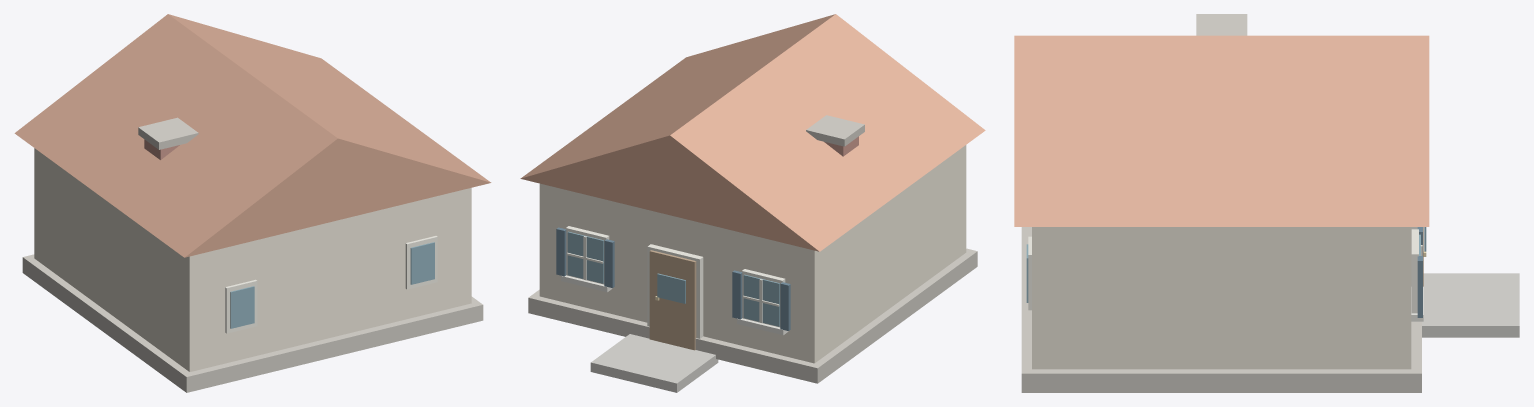
Rendered from House_Cottage.glb.
3 views of the same model, side by side, from view 1: azimuth 30°, elevation 25°; view 2: azimuth 150°, elevation 25°; view 3: azimuth 270°, elevation 25° (orthographic). The views are drawn at different scales.
Parts seen in each view (by area): view 1: 002_gable_roof_002, 001_exterior_001, 000_foundation_000, 027_chimney_cap_027, 025_rear_glass_025, 023_rear_glass_023, 022_rear_window_022, 024_rear_window_024; view 2: 002_gable_roof_002, 001_exterior_001, 000_foundation_000, 021_stoop_021, 018_door_018, 004_window_glass_004, 011_window_glass_011, 017_door_trim_017, 027_chimney_cap_027, 020_door_glazing_020, 008_shutter_008, 015_shutter_015 (+4 smaller); view 3: 002_gable_roof_002, 001_exterior_001, 000_foundation_000, 021_stoop_021, 027_chimney_cap_027, 010_window_trim_010.
Boxes of the visible parts, x1,y1,x2,y2 form: 002_gable_roof_002: (14,14,491,257); 001_exterior_001: (34,148,471,371); 000_foundation_000: (22,254,483,392); 027_chimney_cap_027: (138,117,198,149); 025_rear_glass_025: (410,242,434,284); 023_rear_glass_023: (230,286,254,328); 022_rear_window_022: (225,279,257,333); 024_rear_window_024: (405,236,437,289); 002_gable_roof_002: (520,14,985,251); 001_exterior_001: (539,145,966,363); 000_foundation_000: (528,248,977,383); 021_stoop_021: (590,334,718,392); 018_door_018: (649,250,696,350); 004_window_glass_004: (743,274,779,326); 011_window_glass_011: (567,231,603,283); 017_door_trim_017: (647,244,703,338); 027_chimney_cap_027: (806,115,864,146); 020_door_glazing_020: (657,273,685,303); 008_shutter_008: (780,282,790,330); 015_shutter_015: (604,239,614,287); 002_gable_roof_002: (1014,35,1429,226); 001_exterior_001: (1032,227,1411,369); 000_foundation_000: (1021,227,1421,392); 021_stoop_021: (1422,273,1519,337); 027_chimney_cap_027: (1196,14,1247,35); 010_window_trim_010: (1411,229,1418,313).
Size of the model in its own units: 7.3 by 5.14 by 8.53.
